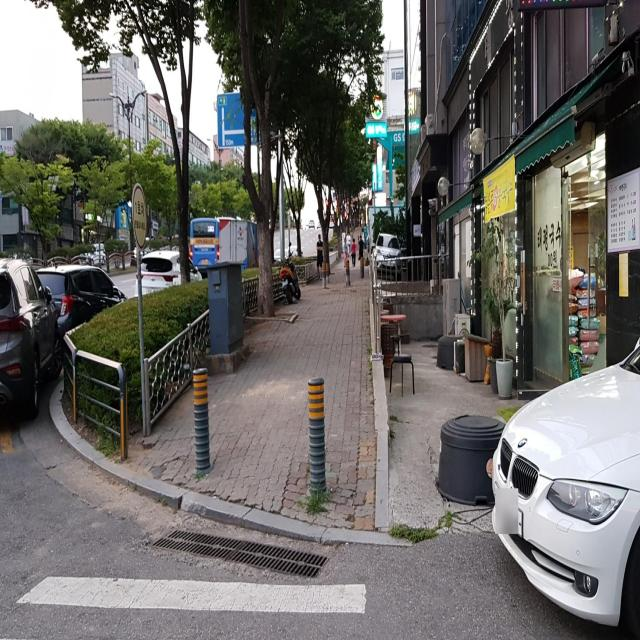횡단보도: (0, 574, 367, 640)
